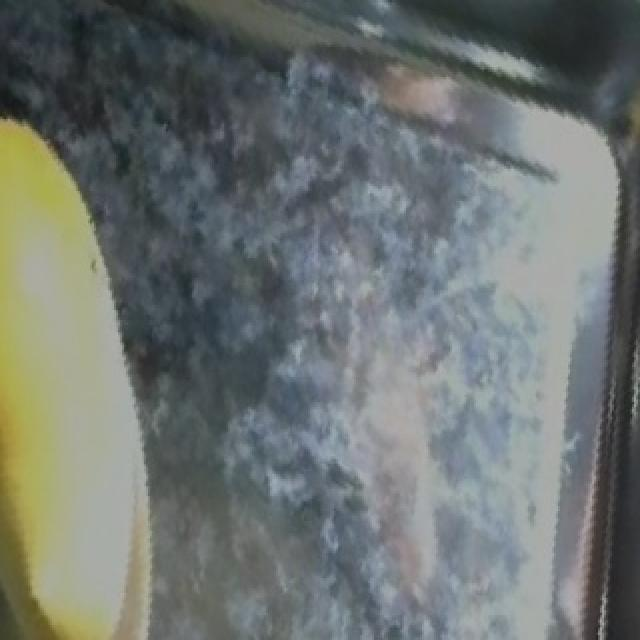fruit: (0, 77, 192, 444)
